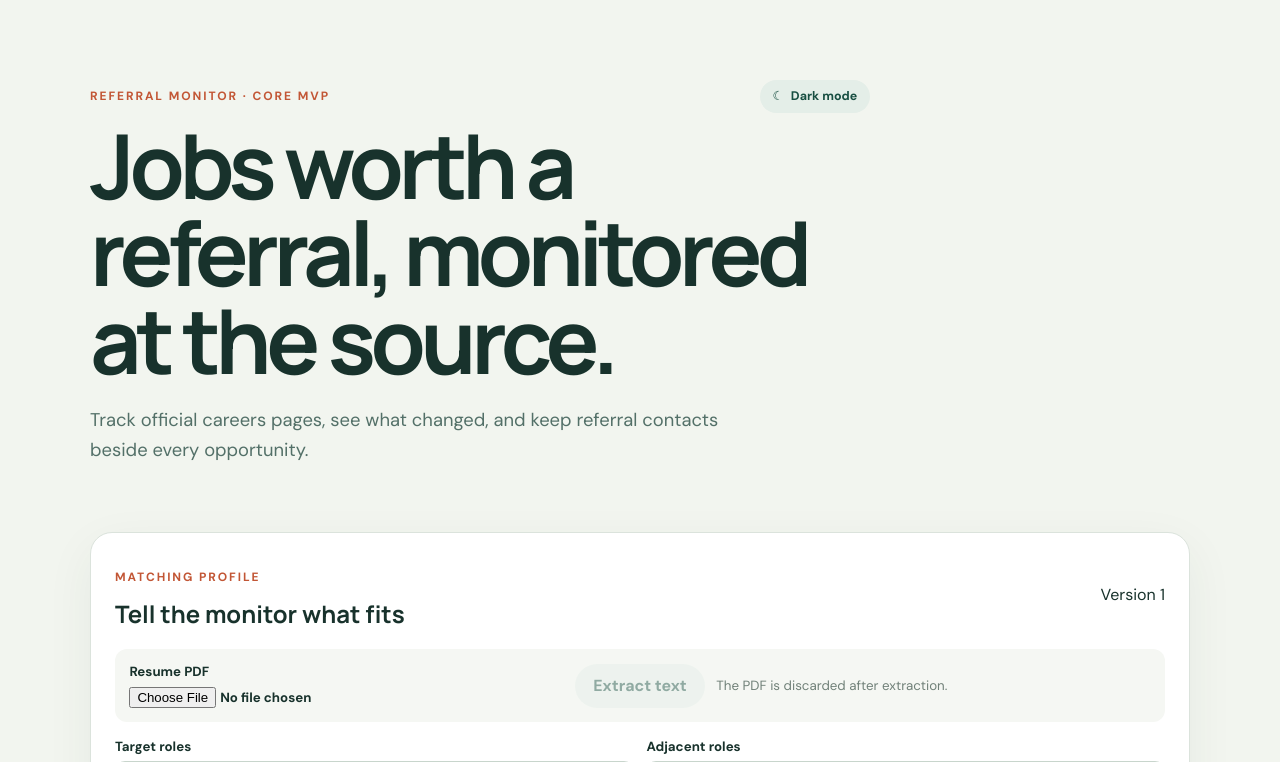
Test: switches themes and remembers the selected mode
The width and height of the screenshot is (1280, 762).
Click the button with aria-label "Switch to dark mode".
click(815, 96)  # box [760,80,870,113]
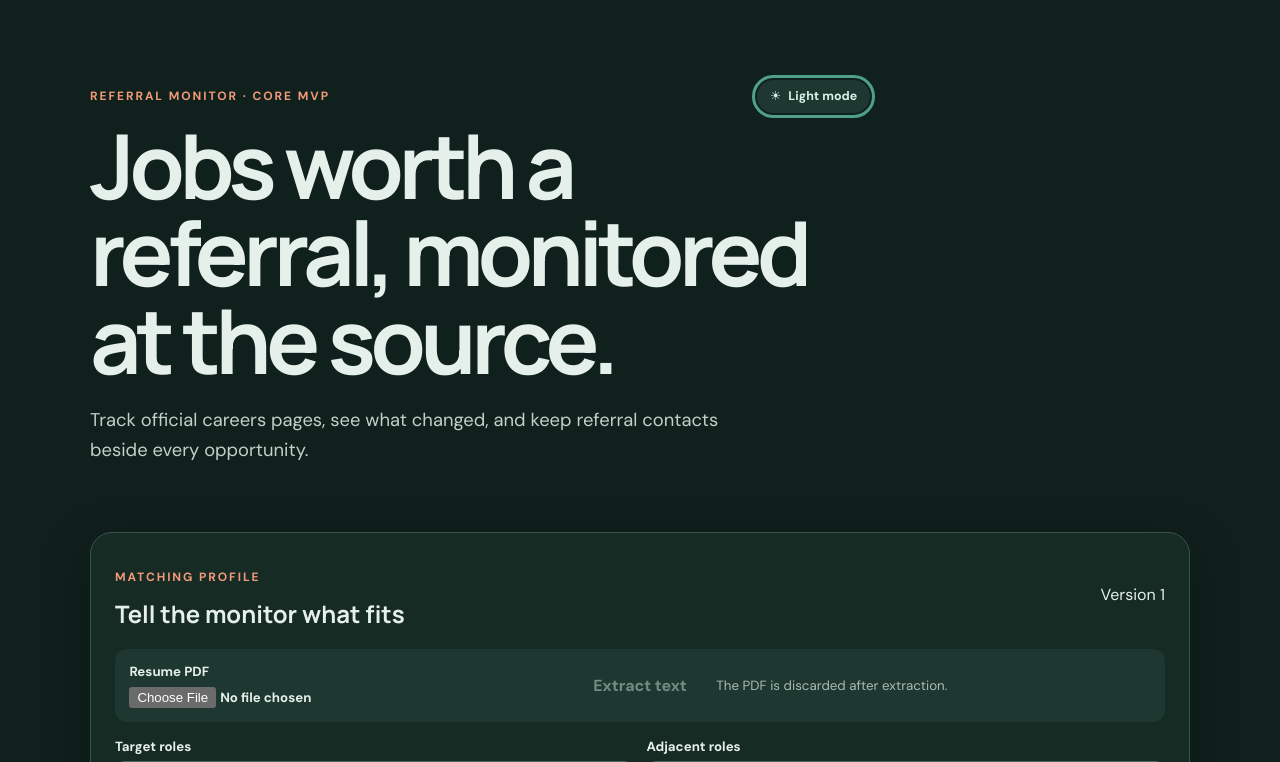
Expected: the button with aria-label "Switch to light mode" is shown, [757,80,870,113]
